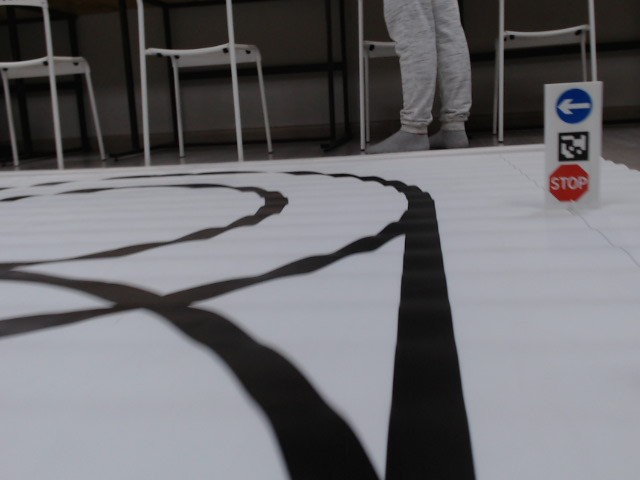Stop: (548, 164, 591, 203)
